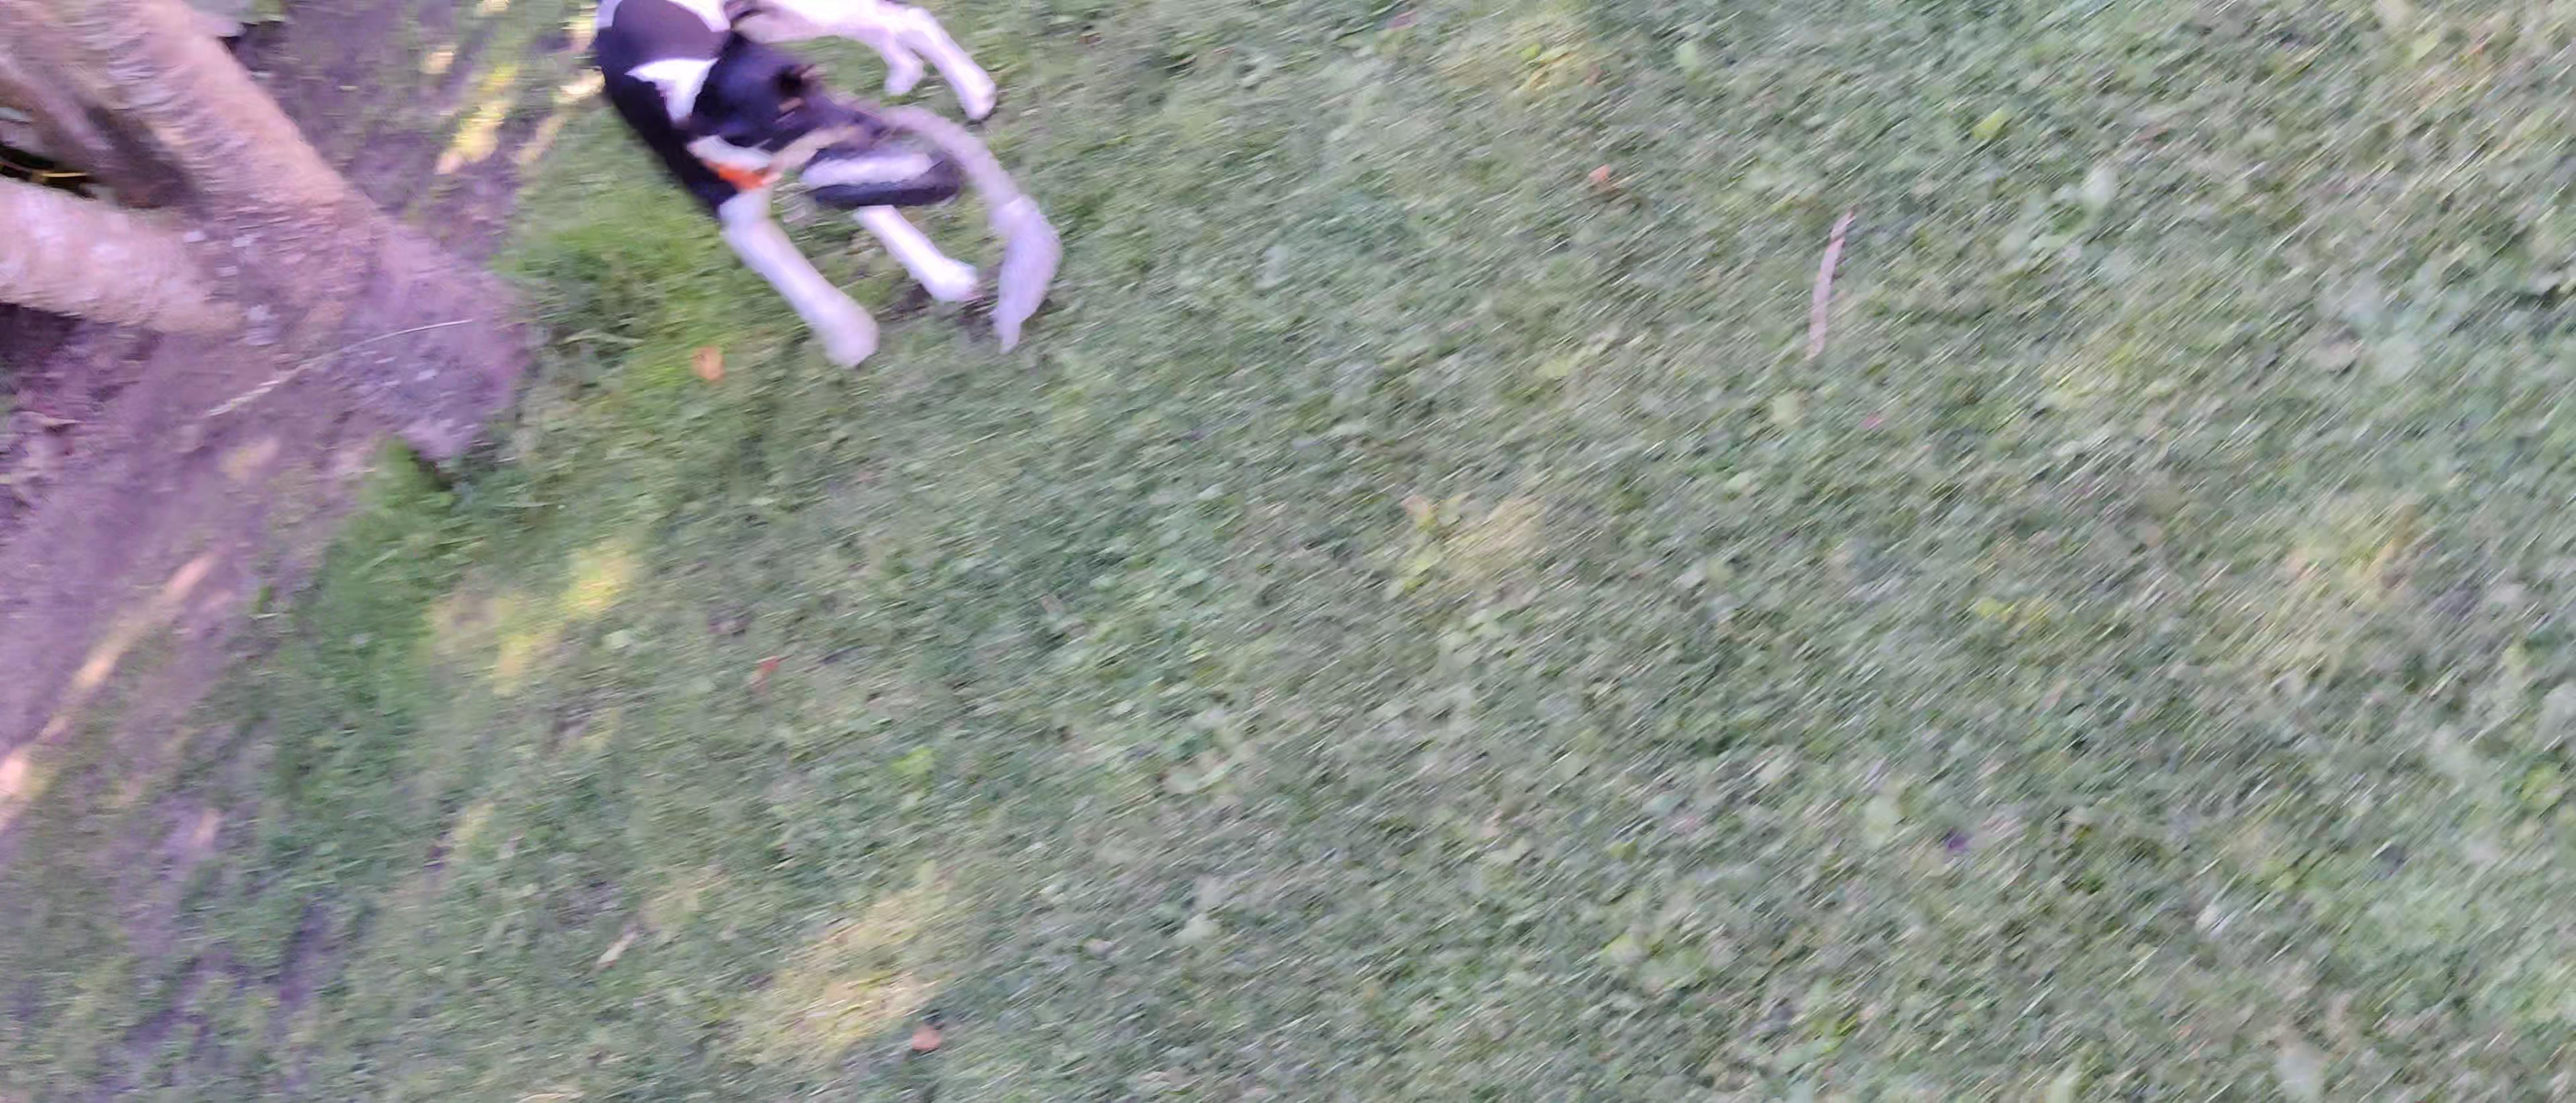Dog: (575, 0, 1010, 386)
